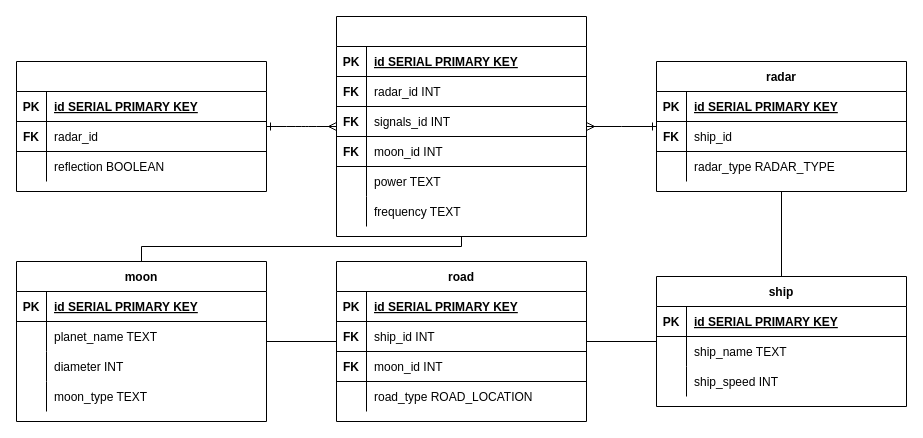
Image size: 923x438. Some labels were removed from this diagram. The box of each missing label's shape, as (x1, y1, x2, y2) in pixels:
activity: (336, 16, 586, 236)
signals: (16, 60, 266, 192)
